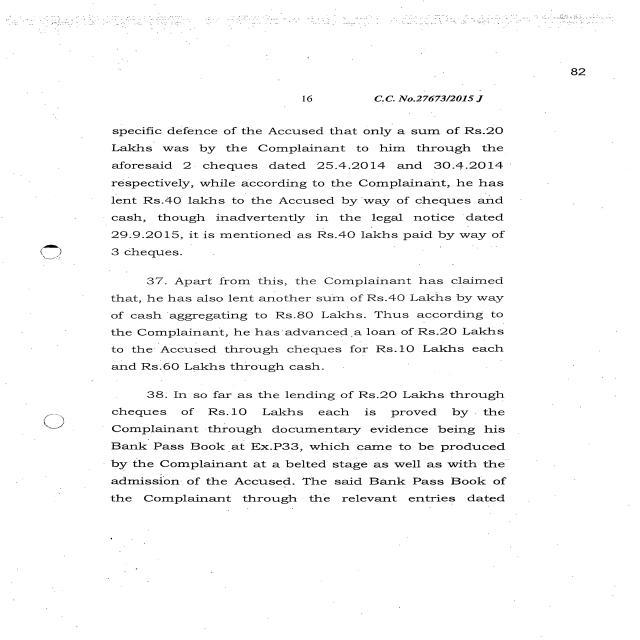page-number: (502, 26, 636, 124)
